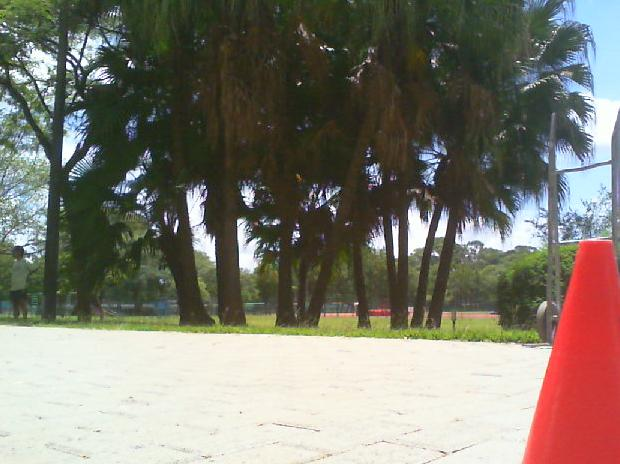0 cone: (517, 240, 620, 464)
